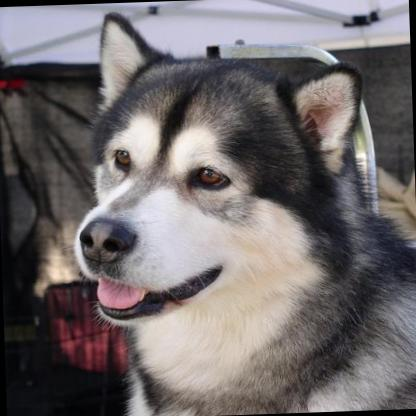malamute: (56, 2, 416, 416)
